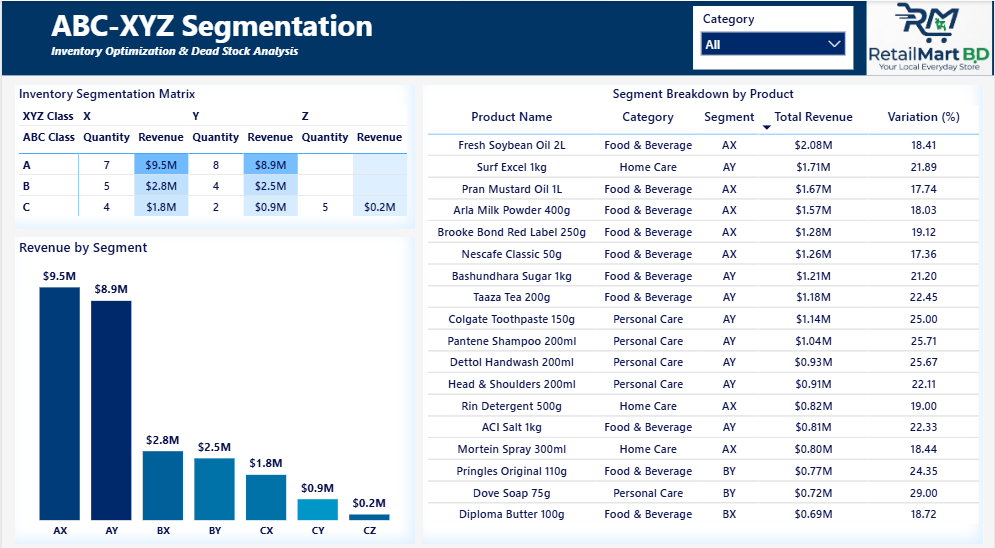

This screenshot's page, from the dashboard's own definition file:
{"tool":"powerbi","page":{"name":"ABC-XYZ Segmentation","canvas":[1280,720],"ordinal":1},"visuals":[{"type":"textbox","box":[0,0,1279.8,96.4],"z":0},{"type":"image","box":[1114,0,165.8,96.4],"z":1000},{"type":"pivotTable","title":"Inventory Segmentation Matrix","fields":{"Columns":["vw_abc_xyz_matrix.xyz_category"],"Rows":["vw_abc_xyz_matrix.abc_category"],"Values":["_Measures.Segment Product Count","_Measures.Segment Revenue"]},"box":[16.5,108.7,516.1,185.8],"z":2000},{"type":"clusteredColumnChart","title":"Revenue by Segment","fields":{"Category":["vw_abc_xyz_matrix.combined_segment"],"Y":["_Measures.Segment Revenue"]},"box":[16.5,304.2,516.1,396.4],"z":3000},{"type":"tableEx","title":"Segment Breakdown by Product","fields":{"Values":["dim_product.product_name","dim_product.category","vw_abc_xyz_matrix.combined_segment","Sum(vw_abc_xyz_matrix.total_revenue)","Sum(vw_abc_xyz_matrix.coefficient_of_variation)"]},"box":[543.2,108.6,723.2,592.5],"z":4000},{"type":"slicer","fields":{"Values":["dim_product.category"]},"box":[891.5,7.1,206.9,82.2],"z":5000}]}

Visuals, with their boxes in screenshot pixels (x1, y1, x2, y2), scaled from the page's 1280x720 canvas onto the 995x548 screenshot:
textbox: l=0, t=0, r=994, b=73
image: l=866, t=0, r=994, b=73
"Inventory Segmentation Matrix" pivotTable: l=13, t=83, r=414, b=224
"Revenue by Segment" clusteredColumnChart: l=13, t=232, r=414, b=533
"Segment Breakdown by Product" tableEx: l=422, t=83, r=984, b=534
slicer - dim_product.category: l=693, t=5, r=854, b=68
